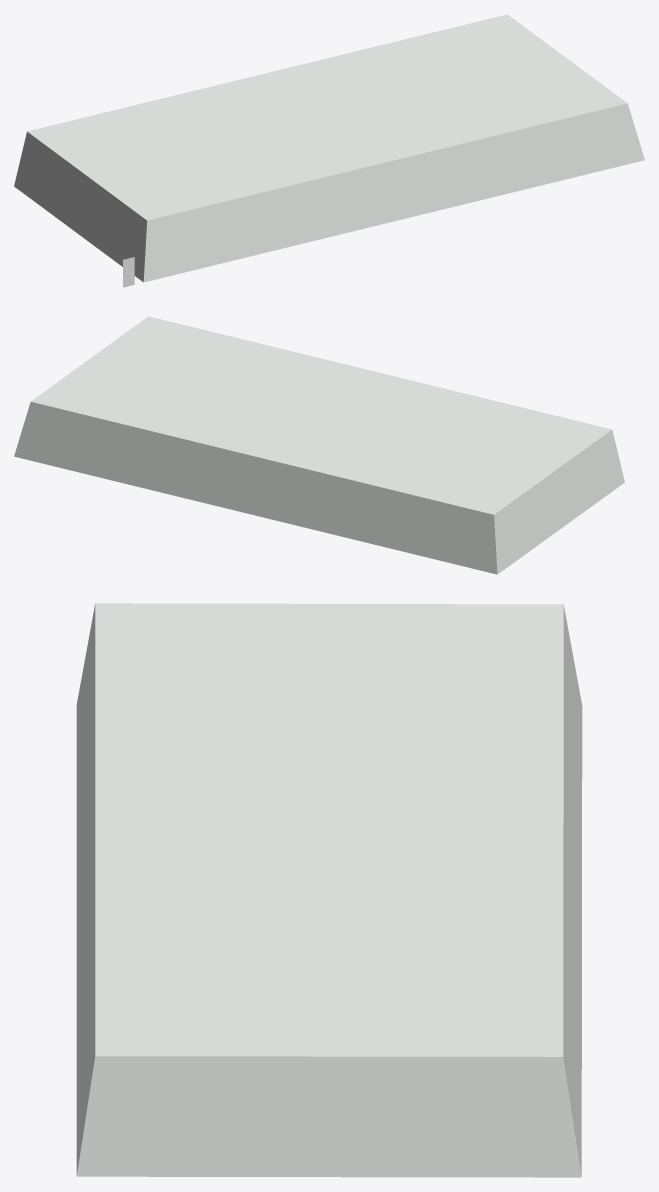
3 views of the same model, one above another, from view 1: azimuth 30°, elevation 25°; view 2: azimuth 150°, elevation 25°; view 3: azimuth 270°, elevation 25° (orthographic). The views are drawn at different scales.
Visible parts, largest first — view 1: Mesh1 Model; view 2: Mesh1 Model; view 3: Mesh1 Model.
Boxes of the visible parts, x1=… form: Mesh1 Model: x1=14, y1=14, x2=644, y2=282; Mesh1 Model: x1=14, y1=316, x2=624, y2=574; Mesh1 Model: x1=76, y1=603, x2=582, y2=1177.
Bounding box in the file's own units: 31.52 × 3.25 × 13.67.
2 materials, 2 textured.
